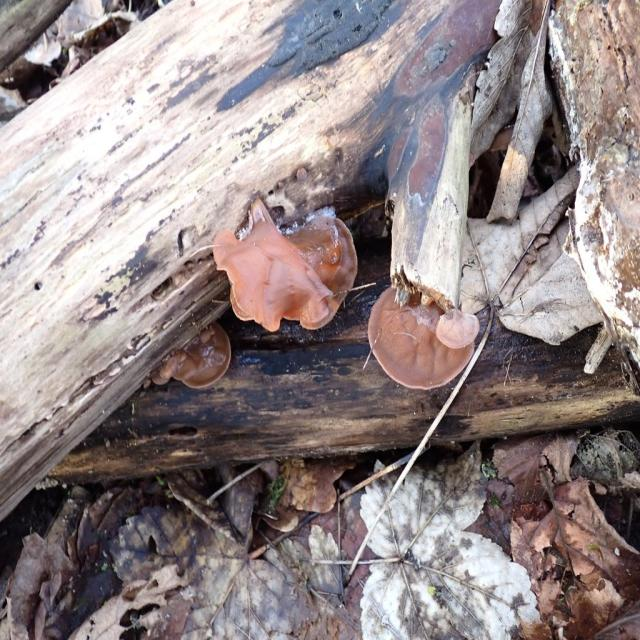Fase Muda: (152, 318, 231, 398), (438, 302, 482, 352)
Matang: (210, 194, 362, 342), (364, 277, 488, 395)
